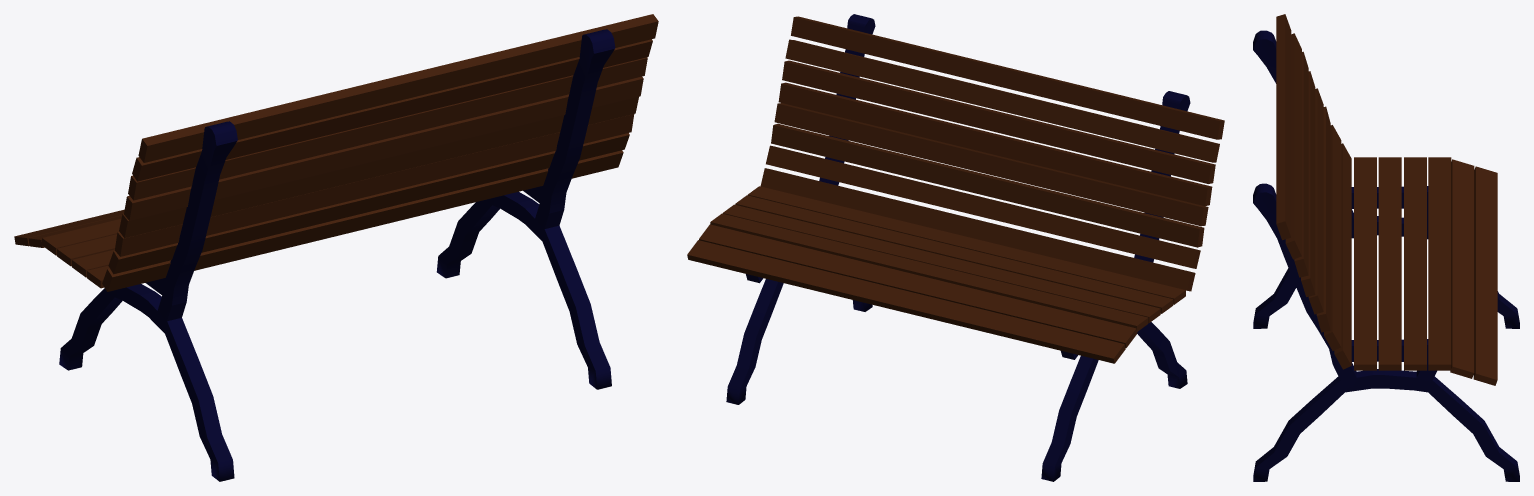
The model's file is Parkbank.fbx.
3 views of the same model, side by side, from view 1: azimuth 30°, elevation 25°; view 2: azimuth 150°, elevation 25°; view 3: azimuth 270°, elevation 25° (orthographic). The views are drawn at different scales.
Parts seen in each view (by area): view 1: pPipe7; view 2: pPipe7; view 3: pPipe7.
Boxes of the visible parts, box(x1,y1,x2,y2) form: pPipe7: box(14, 14, 658, 481); pPipe7: box(687, 14, 1224, 481); pPipe7: box(1253, 14, 1519, 481).
Bounding box in the file's own units: 396 × 259 × 215.
